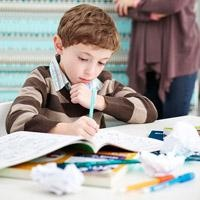person without safety: (33, 2, 134, 108)
